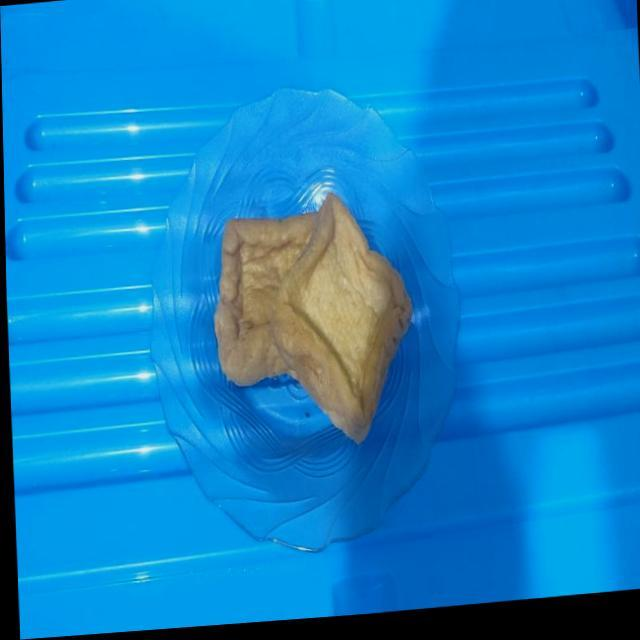tahu_goreng: (268, 192, 412, 443), (214, 211, 318, 385)
